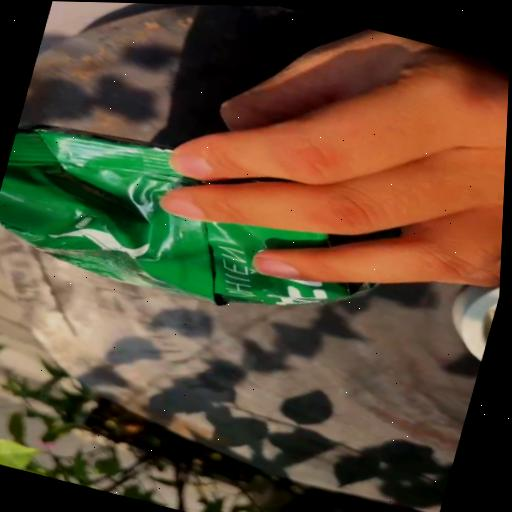cafe_xay: (0, 124, 399, 305)
